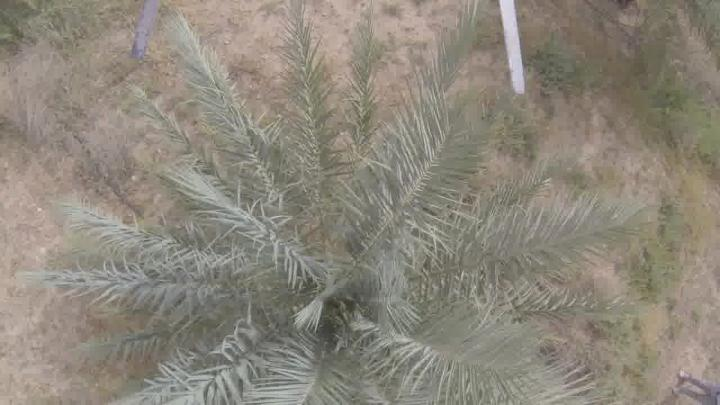Date-Palm-Crown: (162, 147, 504, 405)
